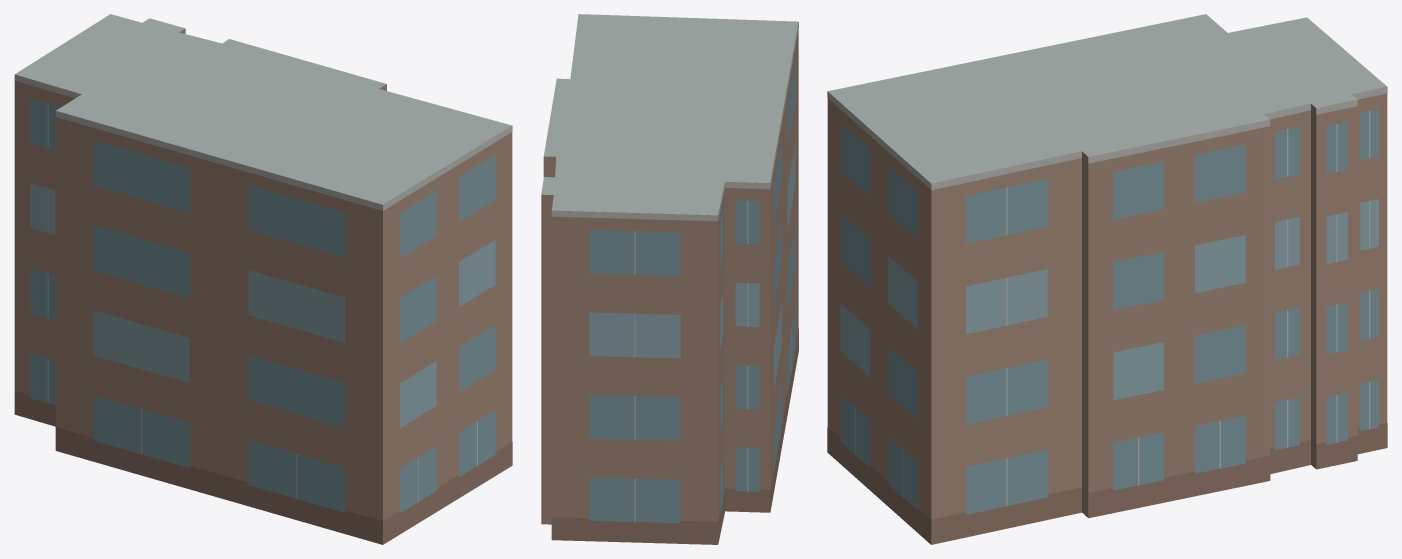
Rendered from survey-upis-32800757.glb.
3 views of the same model, side by side, from view 1: azimuth 30°, elevation 25°; view 2: azimuth 150°, elevation 25°; view 3: azimuth 270°, elevation 25° (orthographic). The views are drawn at different scales.
Parts seen in each view (by area): view 1: survey-upis-32800757.tmp; view 2: survey-upis-32800757.tmp; view 3: survey-upis-32800757.tmp.
Part boxes in pixels (bbox=[...]): survey-upis-32800757.tmp: bbox=[14, 14, 512, 544]; survey-upis-32800757.tmp: bbox=[541, 14, 798, 544]; survey-upis-32800757.tmp: bbox=[827, 14, 1387, 544].
Bounding box in the file's own units: 13.41 × 13.3 × 18.7.
